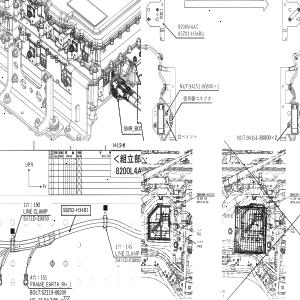PartNumber: (246, 133, 271, 141), (177, 30, 205, 37), (42, 288, 66, 296), (23, 216, 50, 222), (62, 207, 88, 213), (115, 257, 141, 263), (189, 83, 214, 89), (196, 192, 215, 196), (289, 192, 300, 196)
